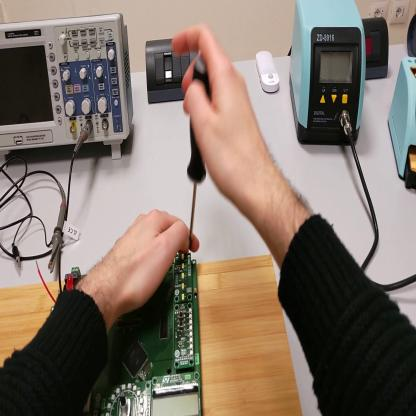hand: (174, 25, 267, 211), (104, 211, 201, 318)
low voltage board: (37, 246, 203, 416)
oscilloscope: (2, 14, 136, 160)
oscilloscope probe tip: (49, 190, 68, 272)
screwdriver-: (187, 63, 210, 253)
socket: (362, 15, 392, 85)
welder base: (391, 46, 416, 191)
welder station: (293, 4, 367, 150)
working area: (2, 256, 302, 416)
